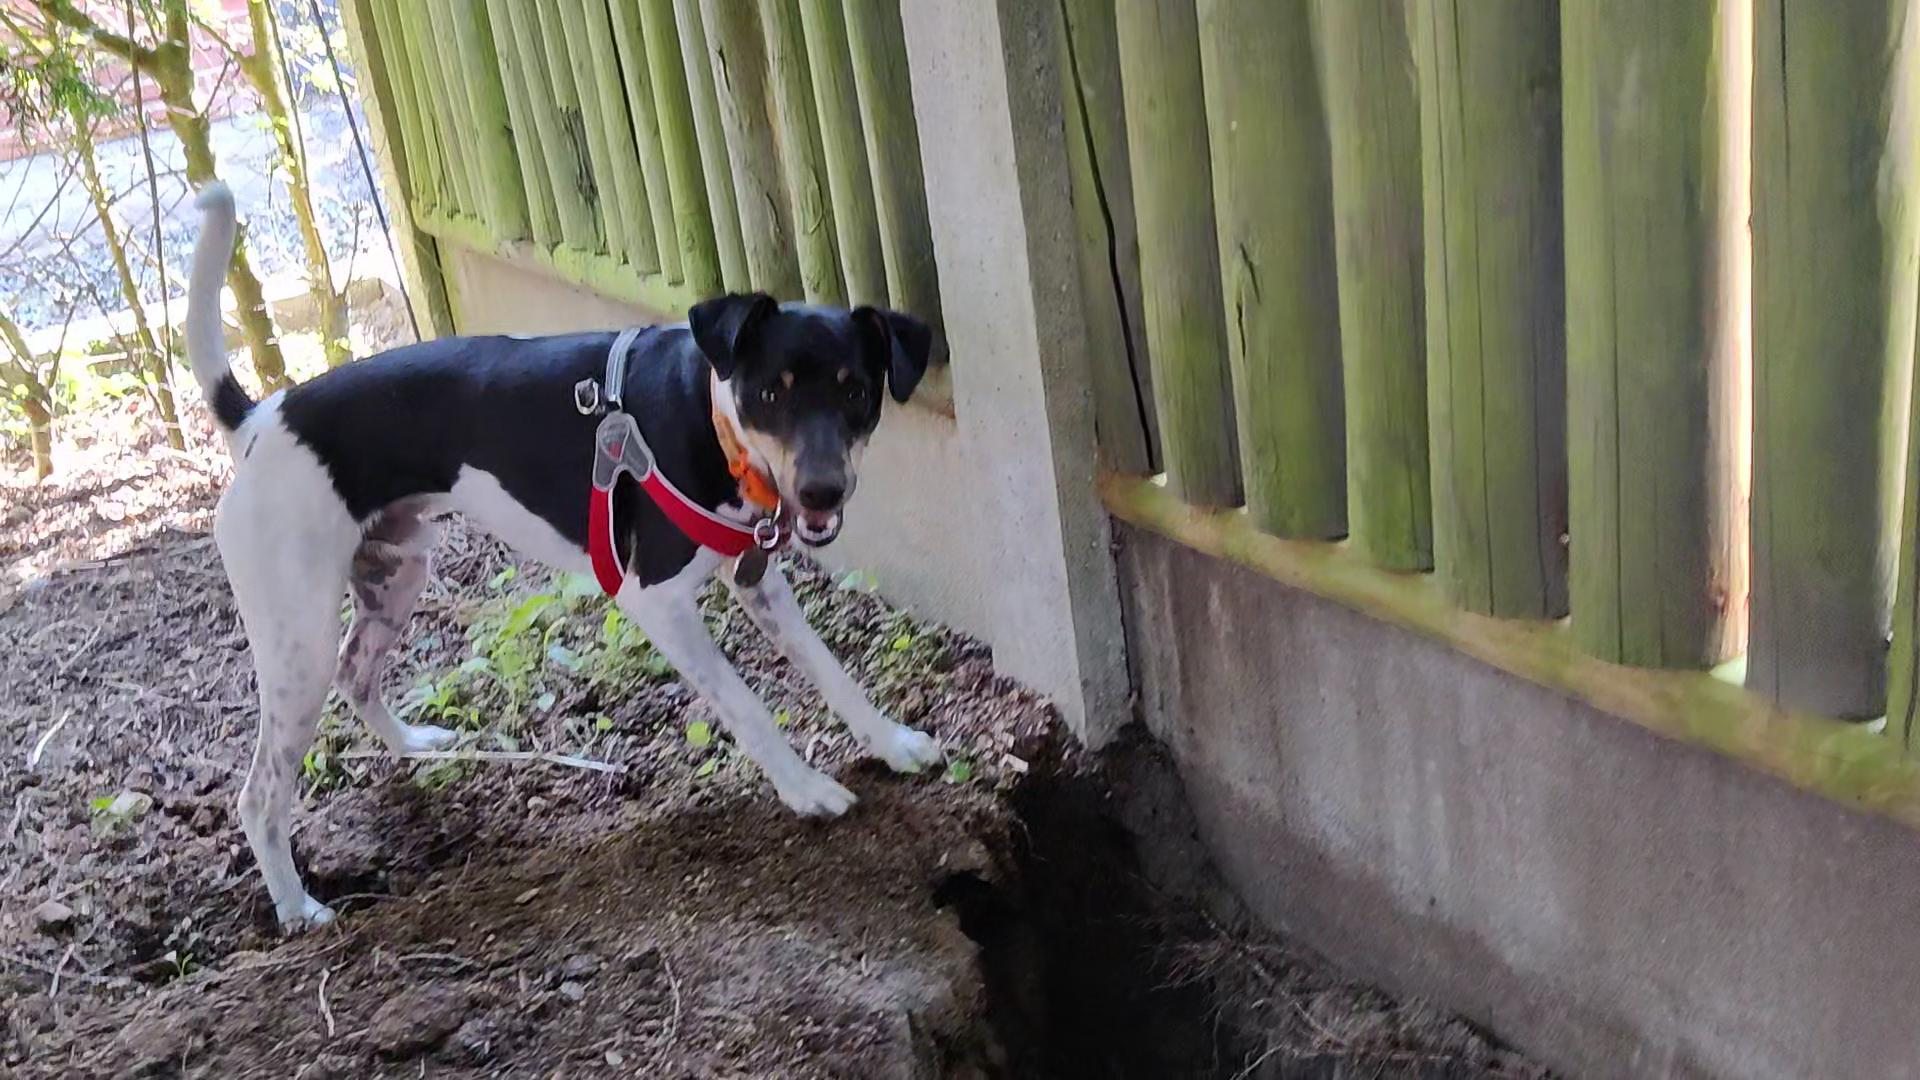Dog: (164, 166, 996, 934)
